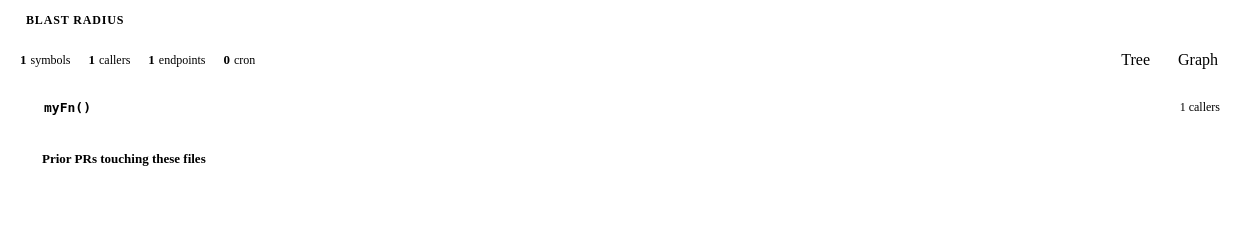
Scenario: BlastRadiusCard › clicking Graph shows SVG graph and hides tree symbol rows
Expected: the button "myFn() 1 callers" is shown, [16, 92, 1232, 123]
# Switch to graph
Click the button "Graph" at x=1198, y=60, box [1164, 44, 1232, 76]
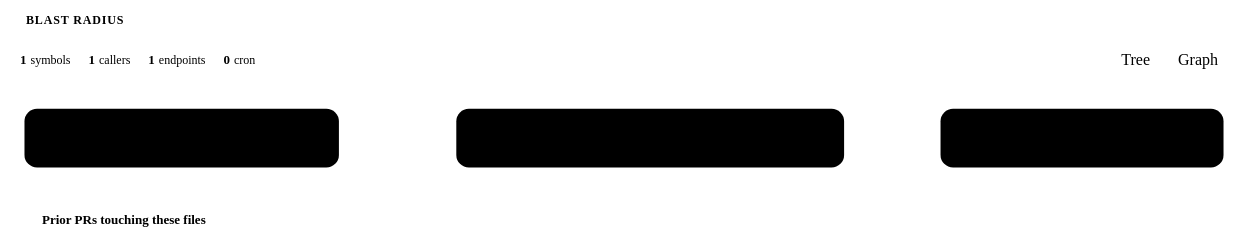
Expected: the icon with test id "blast-graph" is shown, [16, 92, 1232, 184]
